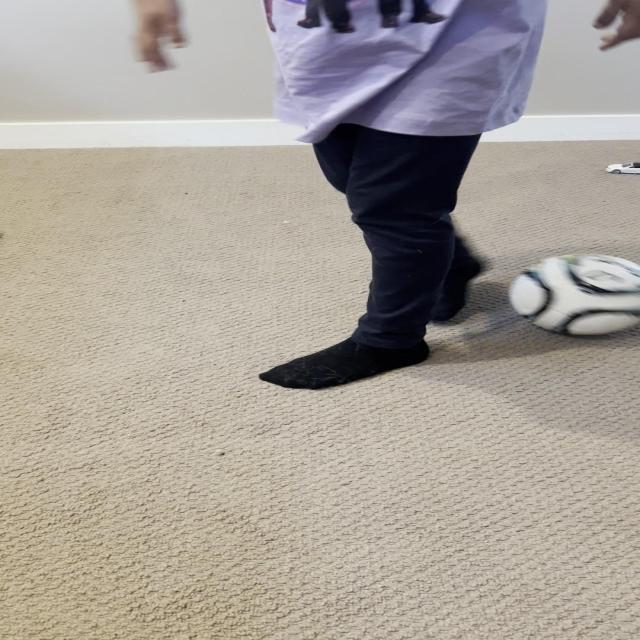Soccer Ball: (502, 252, 640, 335)
